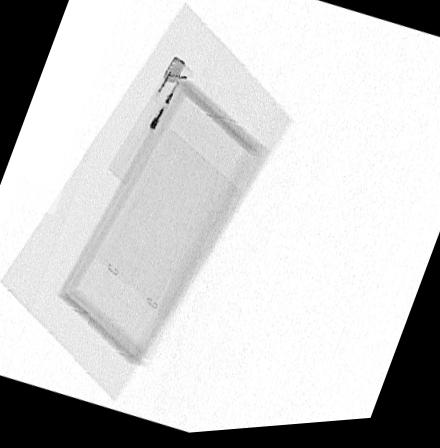Lighter: (106, 58, 192, 187)
